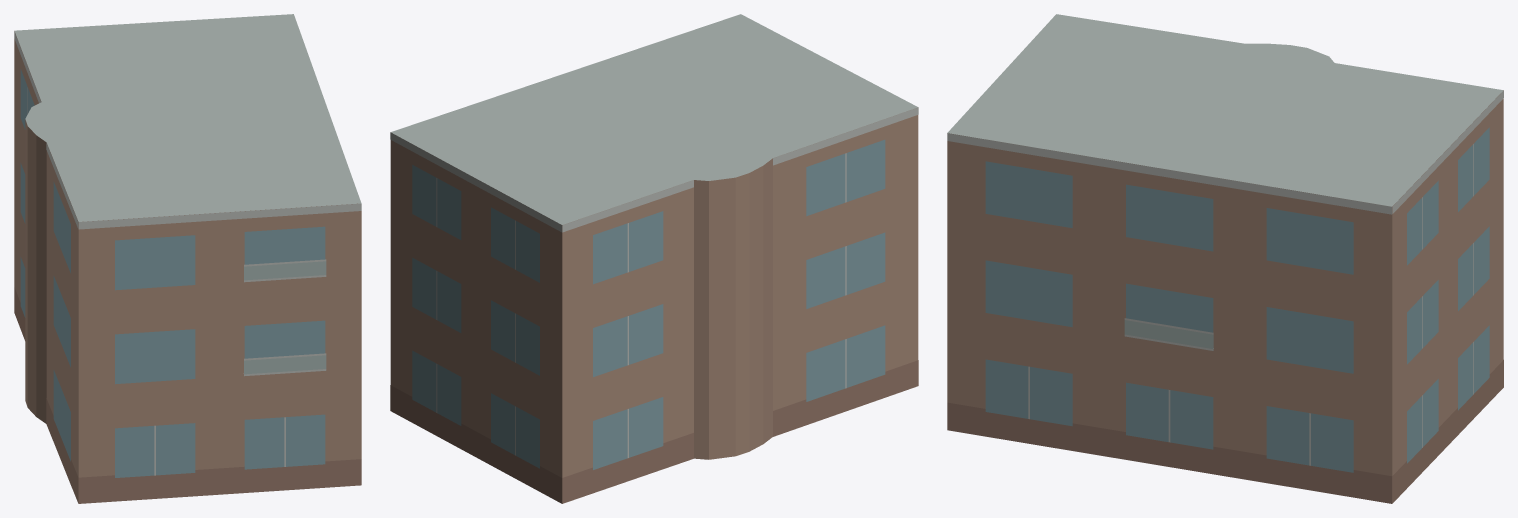
File: survey-upis-32744932.glb
The picture shows the model from 3 angles, left to right: view 1: azimuth 30°, elevation 25°; view 2: azimuth 150°, elevation 25°; view 3: azimuth 270°, elevation 25°; orthographic projection. The views are drawn at different scales.
Visible parts, largest first — view 1: survey-upis-32744932.tmp; view 2: survey-upis-32744932.tmp; view 3: survey-upis-32744932.tmp.
Boxes of the visible parts, x1,y1,x2,y2 form: survey-upis-32744932.tmp: (14,14,361,503); survey-upis-32744932.tmp: (390,14,918,503); survey-upis-32744932.tmp: (947,14,1503,503).
Bounding box in the file's own units: 12.74 × 9.15 × 15.54.
